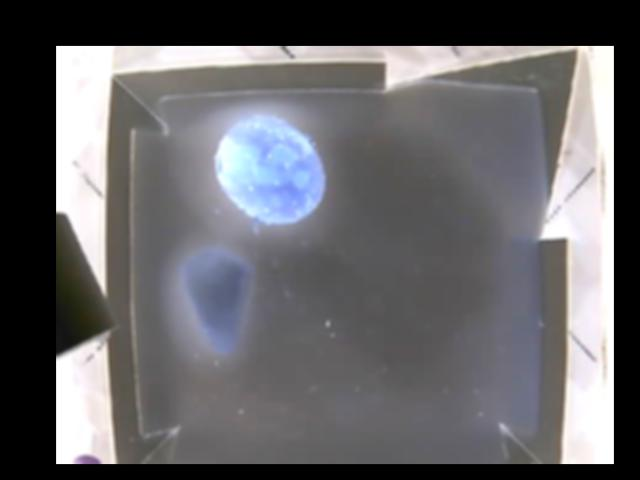Mooli: (182, 250, 254, 354)
Potato: (213, 117, 327, 225)
